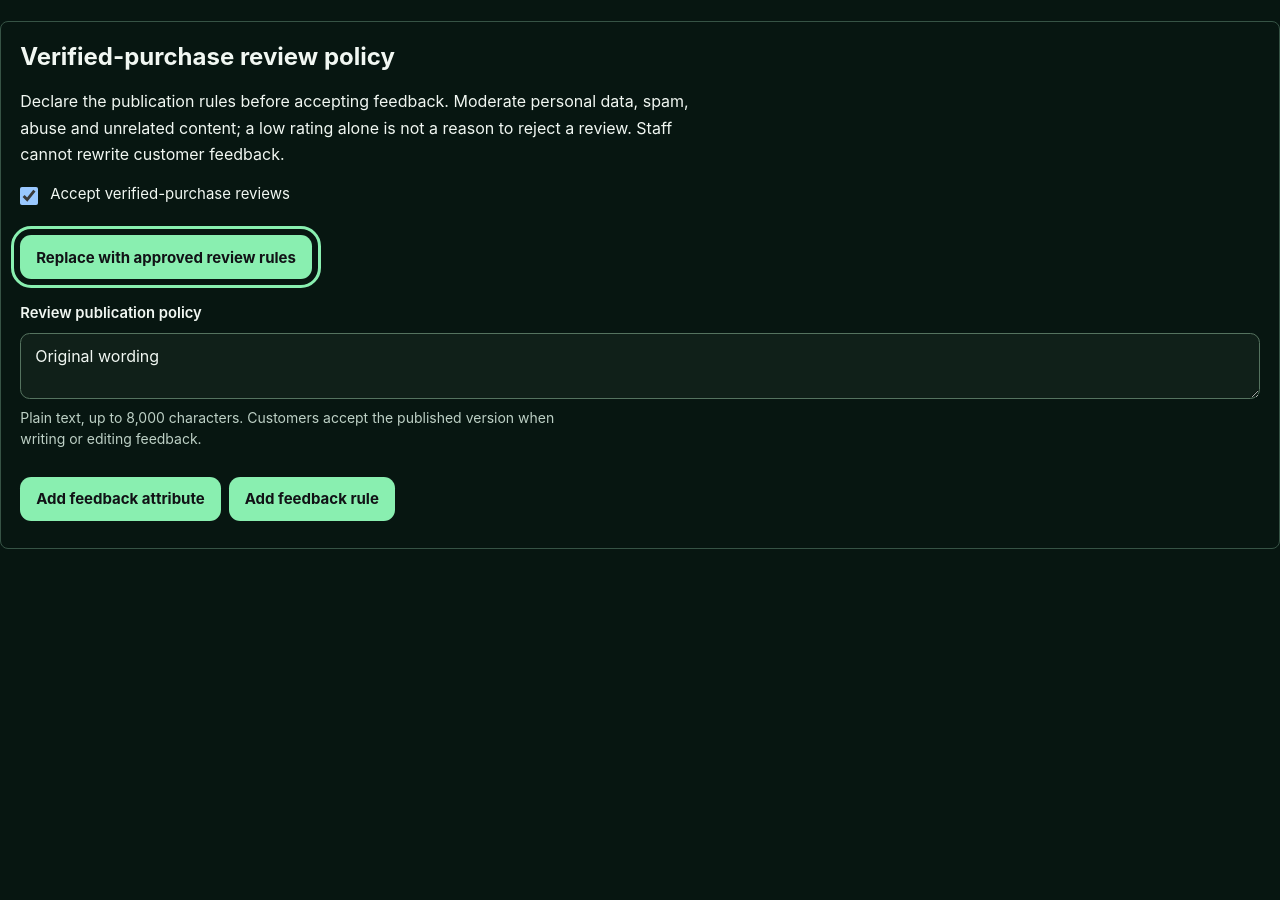
preserves feedback fields added while approved wording loads
The width and height of the screenshot is (1280, 900).
Click the button "Replace with approved review rules" at [166, 257], box [20,235,312,279]
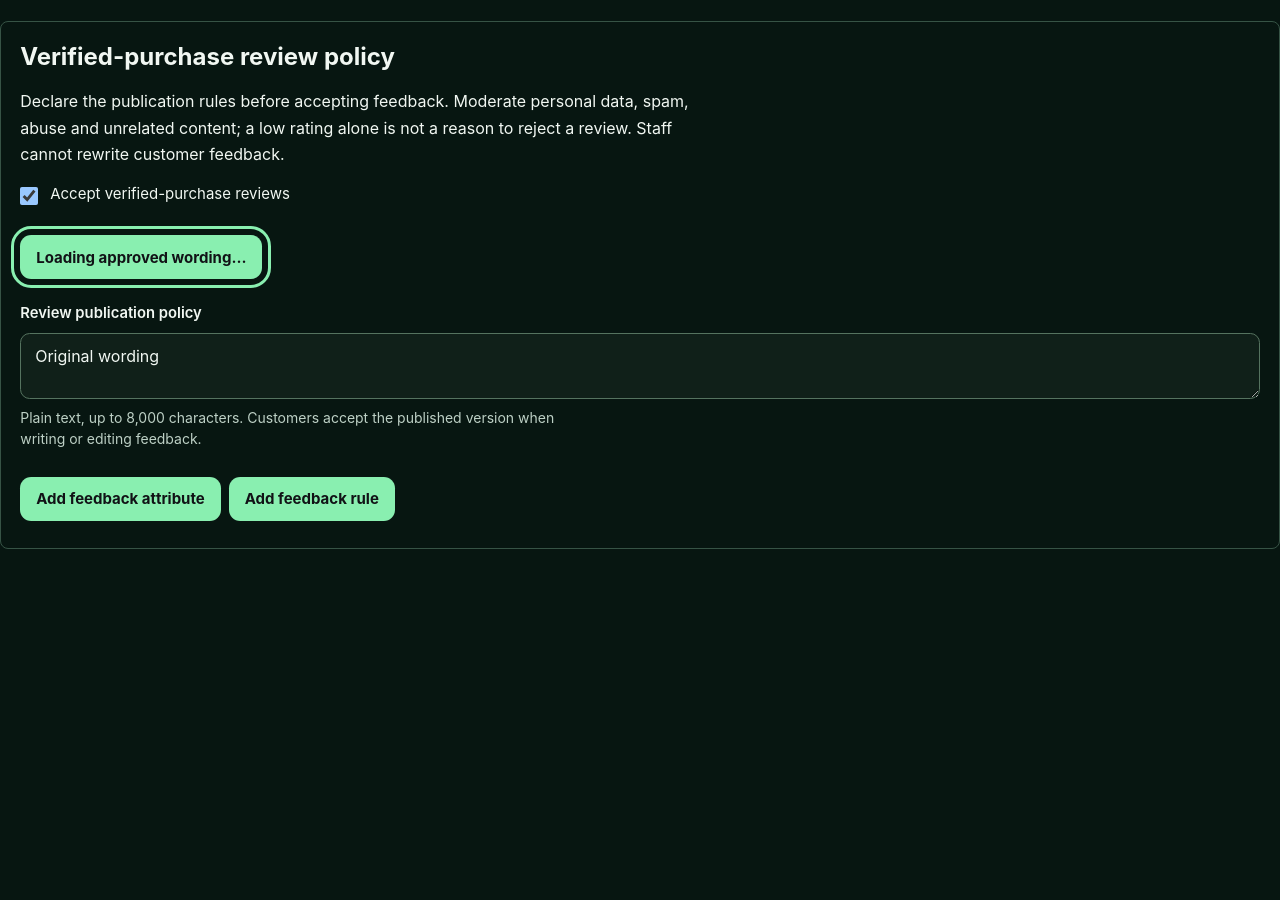
Expected: the button named "Replace with approved review rules" is disabled, [20,235,262,279]
Click the button "Add feedback attribute" at [120, 499], box [20,477,221,521]
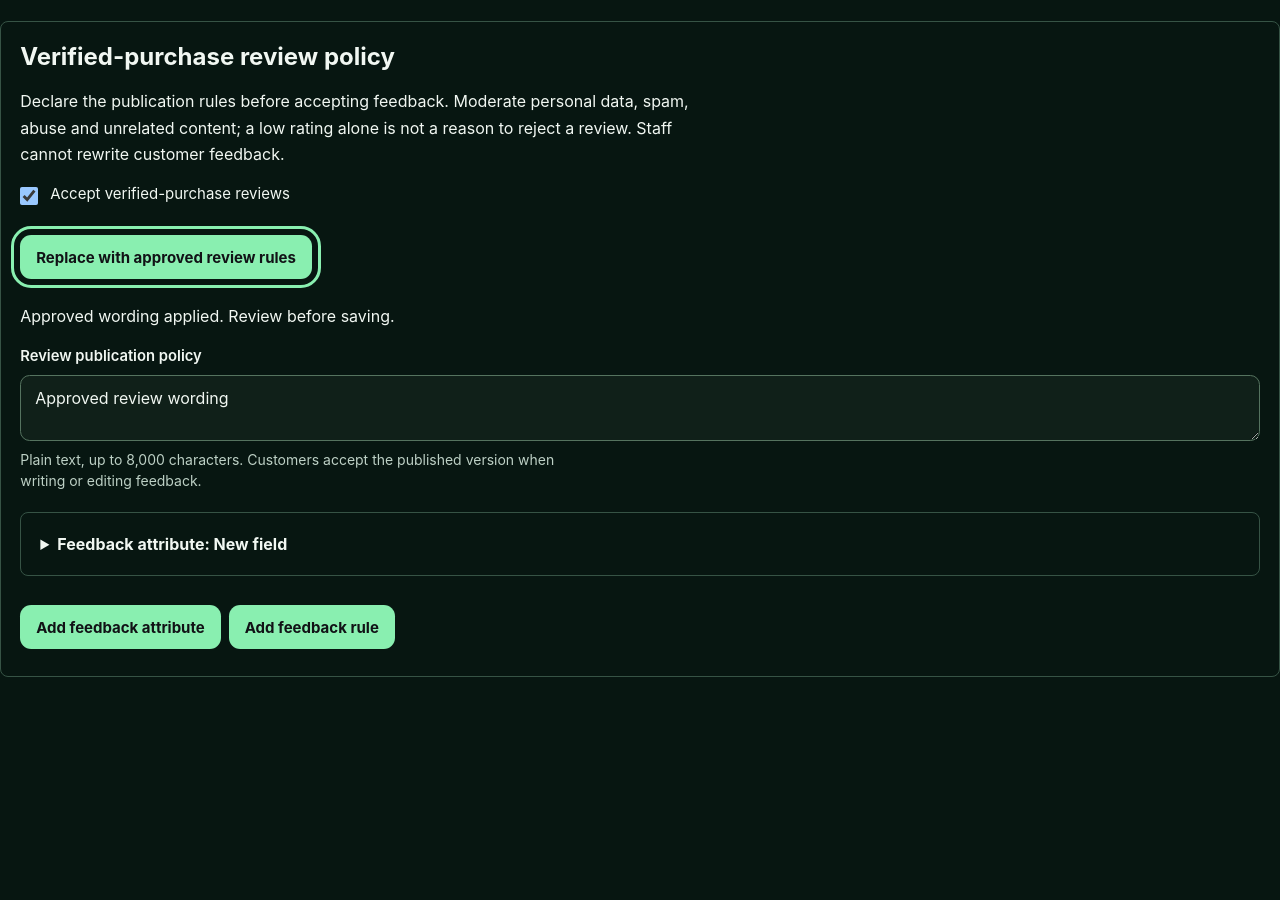
Expected: the heading "Feedback attribute: New field" is shown, [57,534,287,554]
Expected: the text box labelled "Review publication policy" holds "Approved review wording", [20,375,1260,441]
Expected: the message shows "Approved wording applied", [20,306,395,326]
